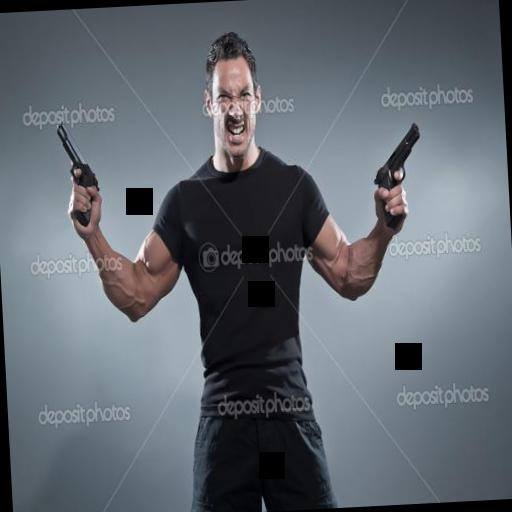Handgun: (366, 105, 426, 223), (54, 120, 108, 245)
